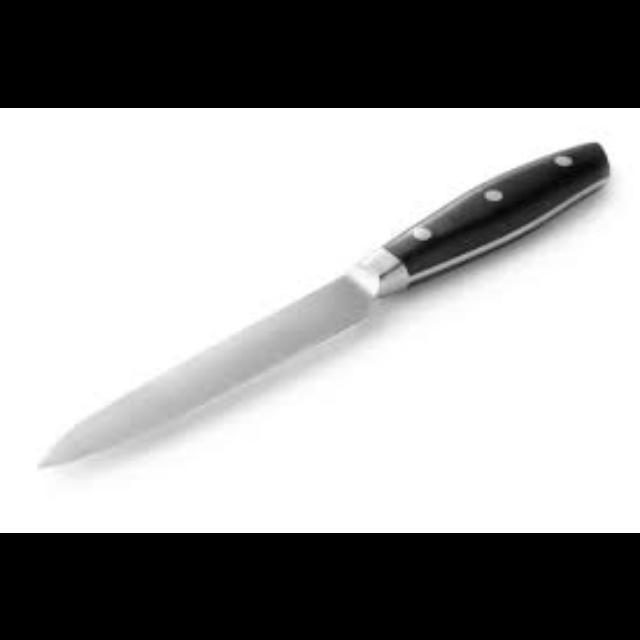Knife: (35, 137, 609, 467)
